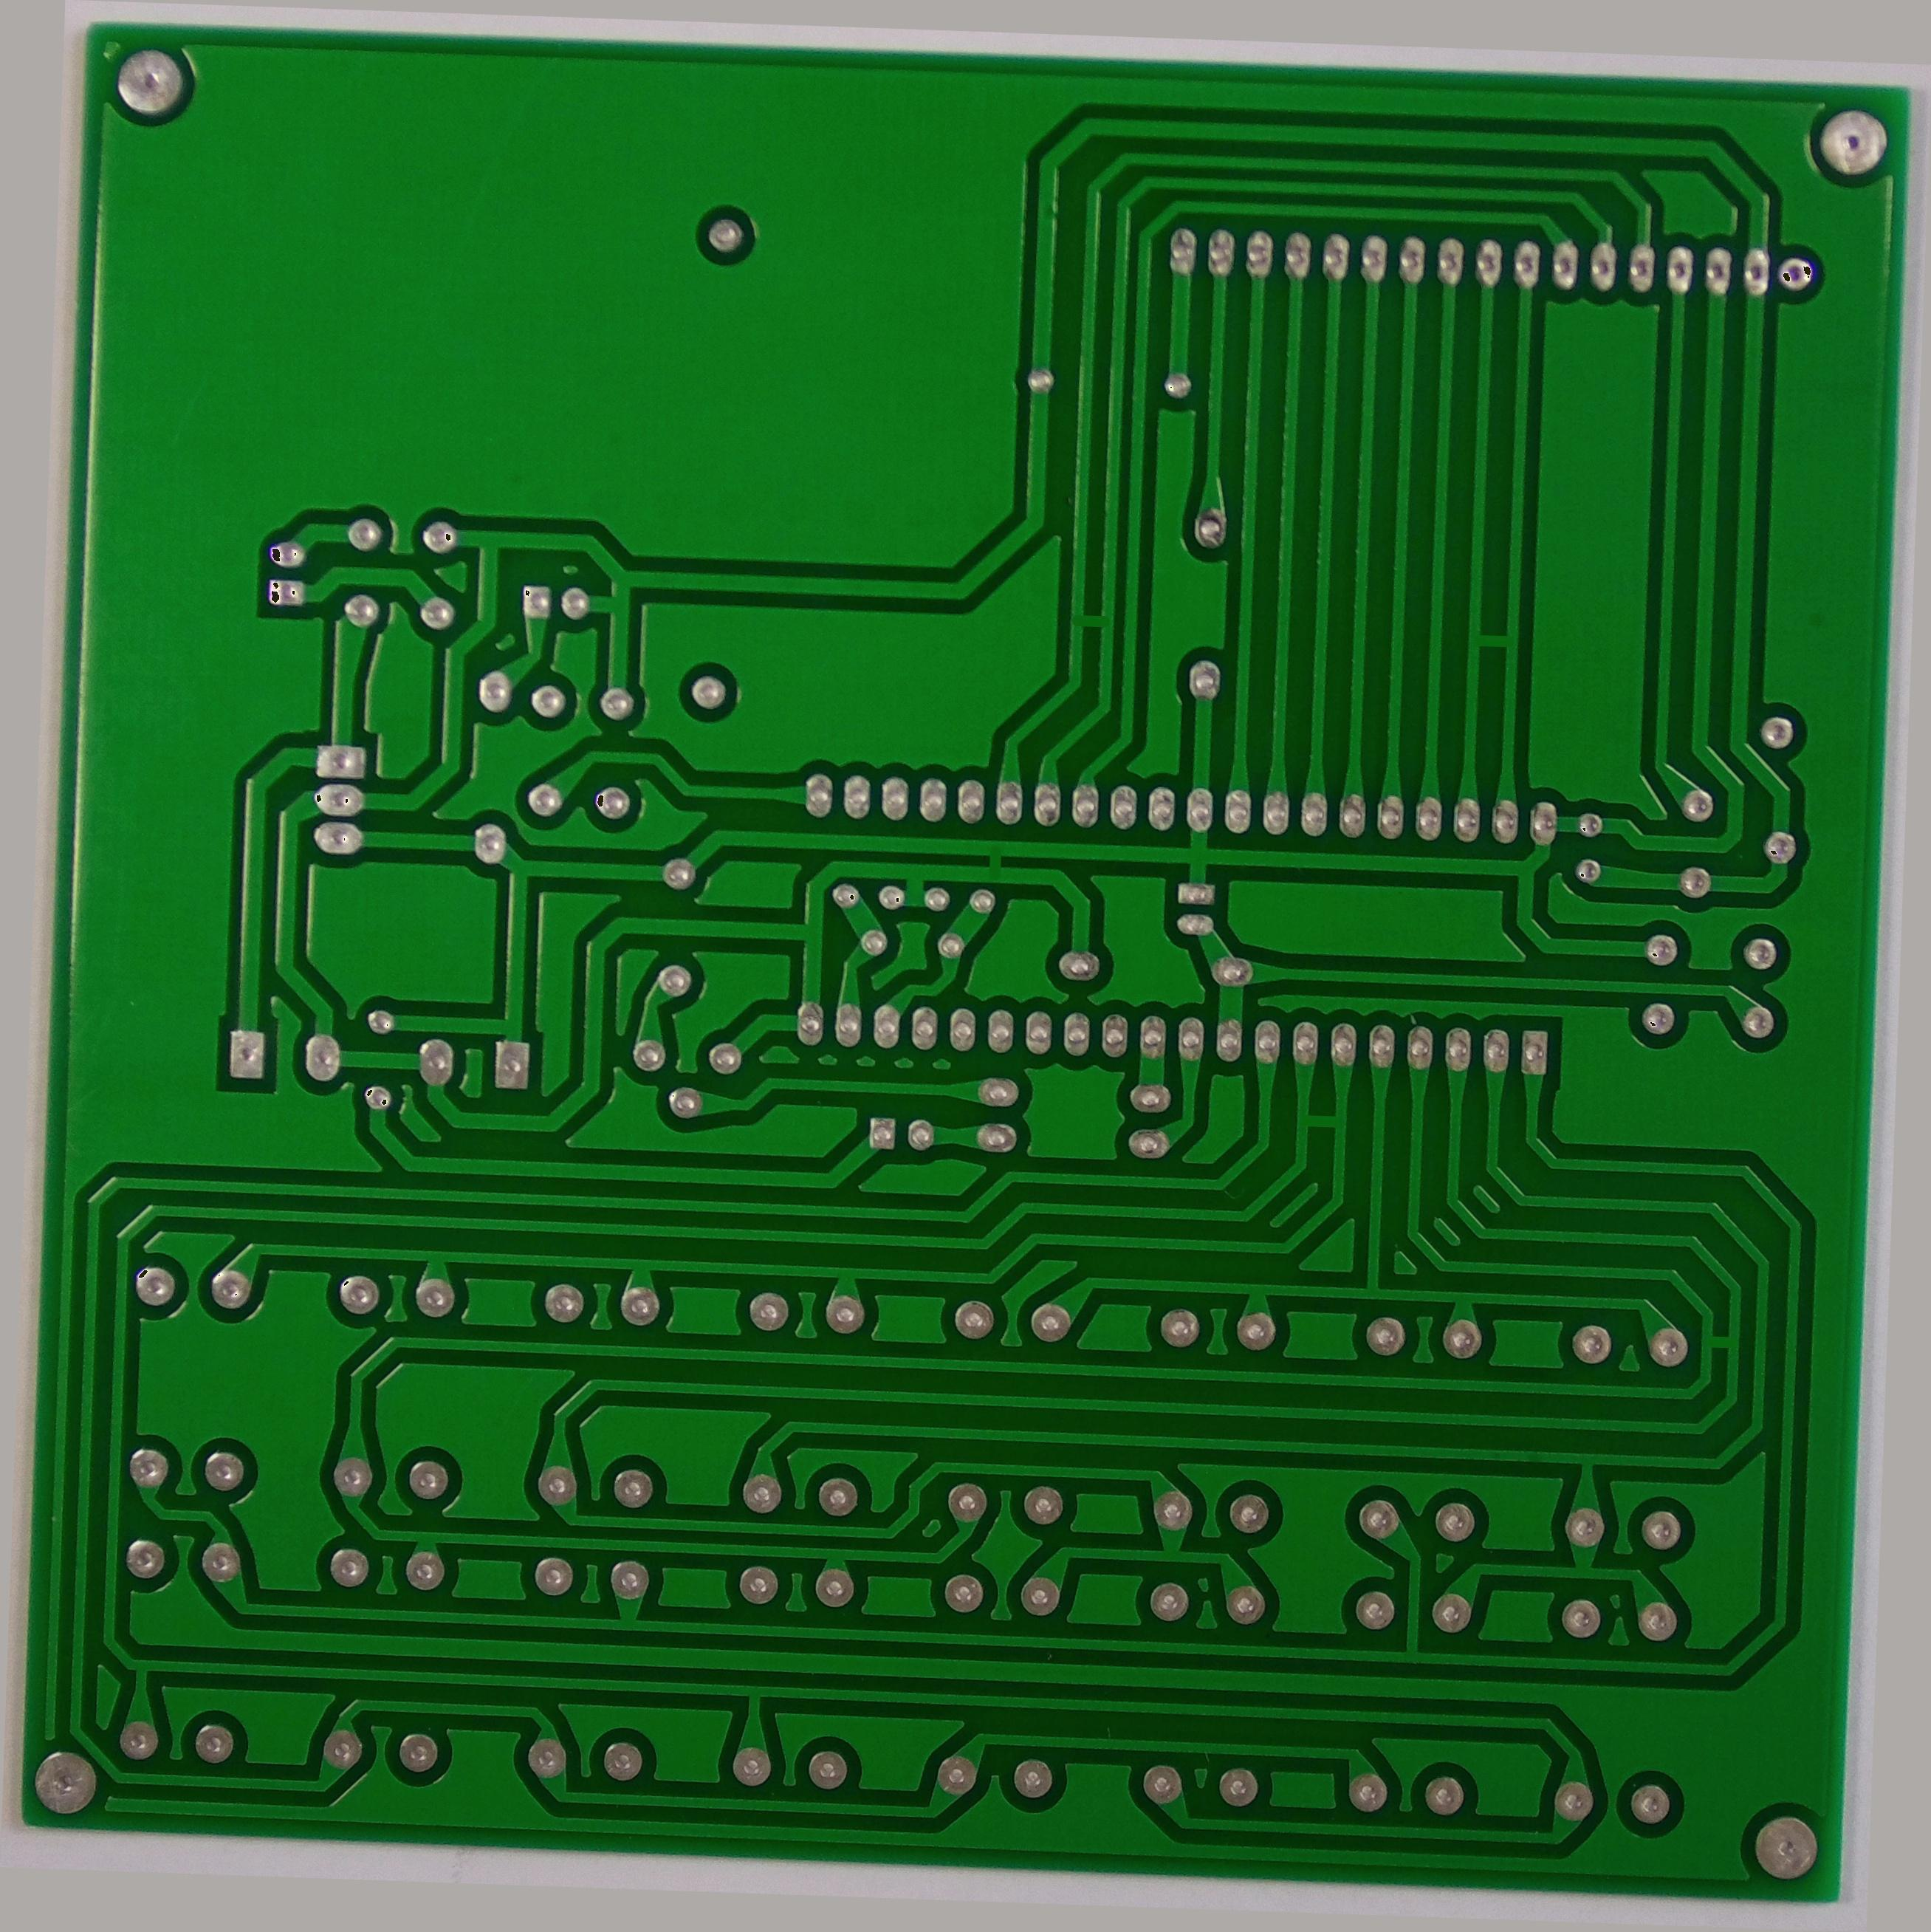short: (1461, 616, 1528, 671), (1287, 1102, 1353, 1141), (1061, 598, 1119, 640), (969, 835, 1019, 885), (1694, 1322, 1744, 1362)
